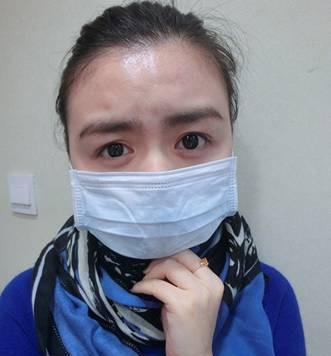OK: (72, 87, 233, 262)
